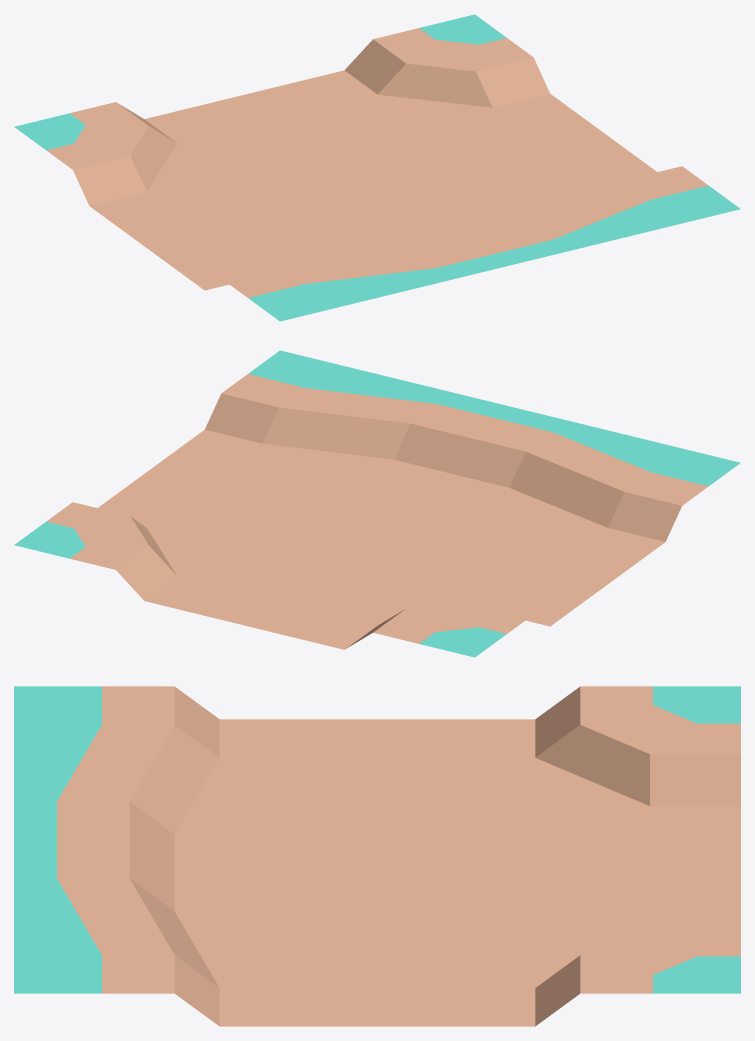
Rendered from ground_pathSplit.gltf.
The picture shows the model from 3 angles, top to bottom: view 1: azimuth 30°, elevation 25°; view 2: azimuth 150°, elevation 25°; view 3: azimuth 270°, elevation 25°; orthographic projection. The views are drawn at different scales.
Parts seen in each view (by area): view 1: ground_pathSplit; view 2: ground_pathSplit; view 3: ground_pathSplit.
Part boxes in pixels (bbox=[...]): ground_pathSplit: bbox=[14, 14, 740, 321]; ground_pathSplit: bbox=[14, 350, 740, 657]; ground_pathSplit: bbox=[14, 686, 740, 1026].
Size of the model in its own units: 1 by 0.05 by 1.
